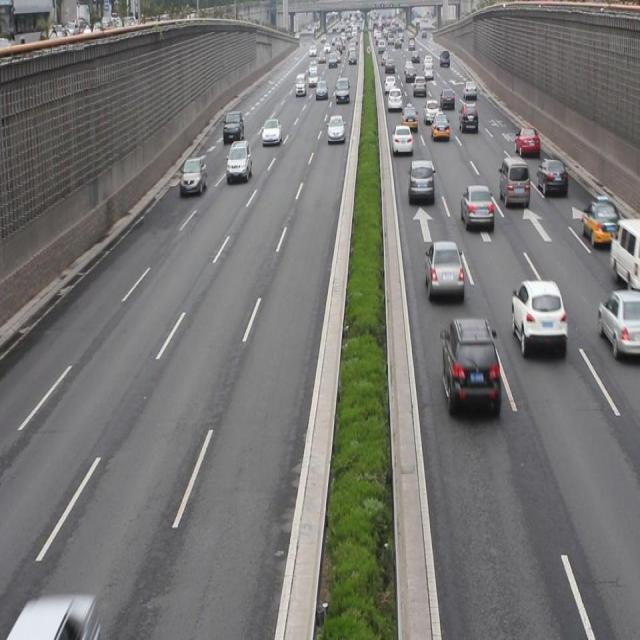car: (442, 316, 499, 416), (510, 278, 564, 356), (598, 289, 640, 357), (425, 241, 464, 302), (580, 197, 620, 243), (459, 183, 493, 232), (406, 158, 434, 206), (537, 156, 566, 196), (226, 137, 251, 181), (180, 155, 207, 193), (514, 125, 539, 158), (222, 110, 244, 142), (392, 122, 413, 152), (260, 117, 281, 145), (430, 111, 450, 140), (460, 102, 478, 134), (326, 116, 344, 144), (401, 104, 417, 130), (423, 99, 439, 123)
truck: (608, 215, 640, 285), (498, 156, 528, 208)
